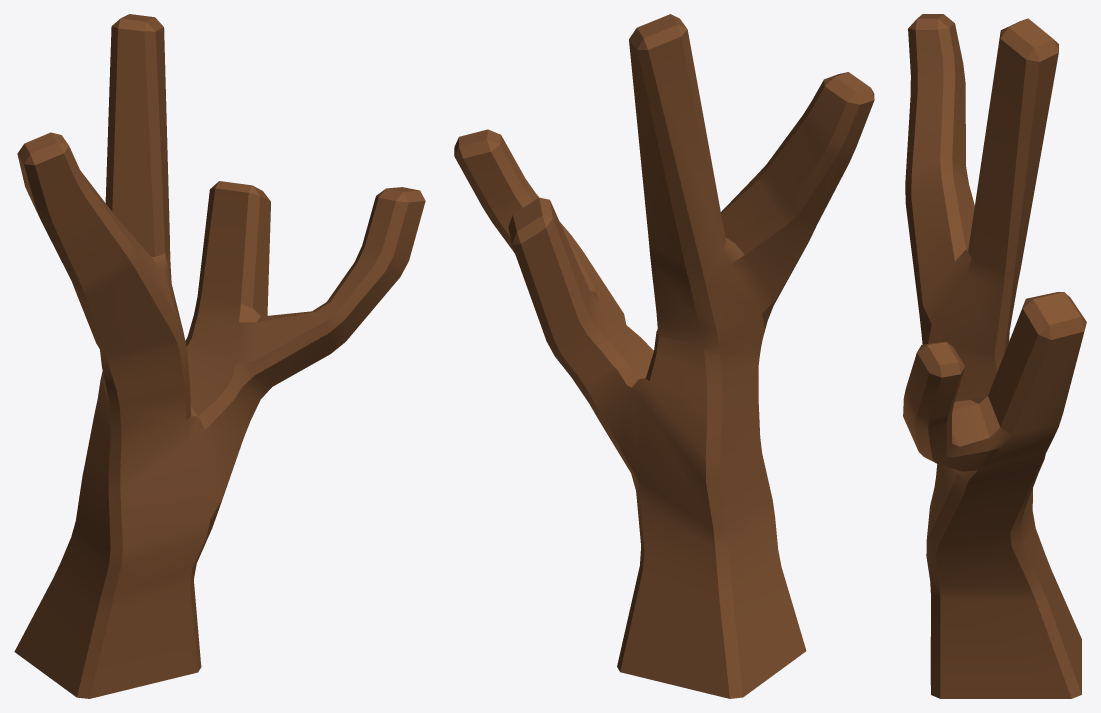
File: DeadTree_2.glb
3 renders of one model, left to right at view 1: azimuth 30°, elevation 25°; view 2: azimuth 150°, elevation 25°; view 3: azimuth 270°, elevation 25°, orthographic. The views are drawn at different scales.
Visible parts, largest first — view 1: DeadTree_2; view 2: DeadTree_2; view 3: DeadTree_2.
Part boxes in pixels (x1,y1,x2,y2): DeadTree_2: [14, 14, 425, 698]; DeadTree_2: [454, 14, 874, 698]; DeadTree_2: [903, 14, 1086, 698].
Size of the model in its own units: 2.97 by 4.38 by 1.11.
1 material, 1 textured.
